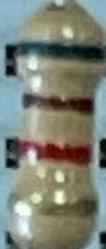Brown: (21, 90, 96, 116)
Green: (13, 41, 106, 63)
Red: (17, 138, 95, 168)
Side-Silver: (5, 188, 98, 220)
